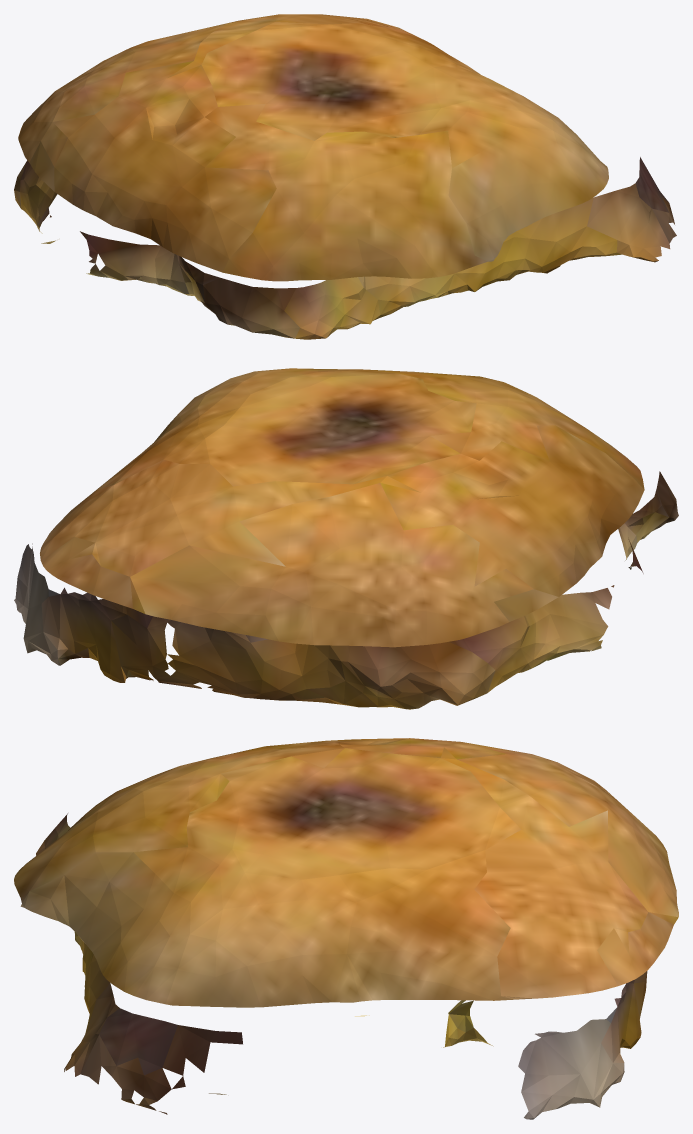
The model's file is bun-top.glb.
3 renders of one model, top to bottom at view 1: azimuth 30°, elevation 25°; view 2: azimuth 150°, elevation 25°; view 3: azimuth 270°, elevation 25°, orthographic. The views are drawn at different scales.
Visible parts, largest first — view 1: bun-top; view 2: bun-top; view 3: bun-top.
Part boxes in pixels (<box>): bun-top: <box>14,14,676,339</box>; bun-top: <box>14,368,678,709</box>; bun-top: <box>14,738,678,1119</box>.
Bounding box in the file's own units: 8.85 × 2.89 × 8.6.
2 materials, 2 textured.
